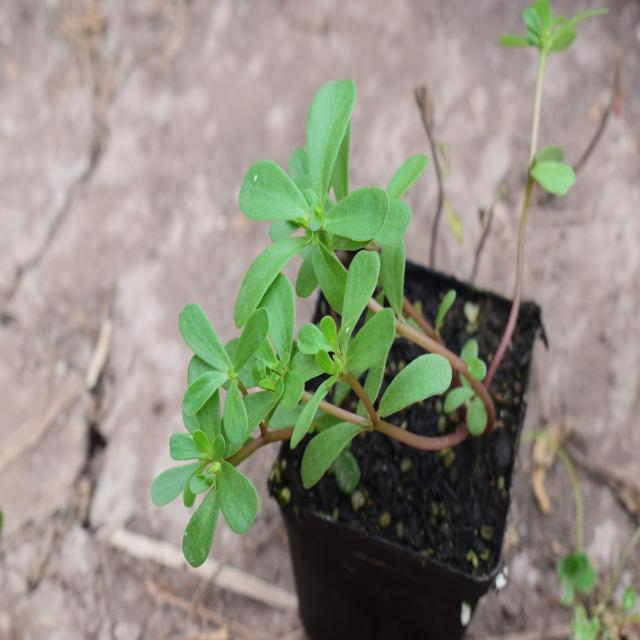purslane: (120, 98, 480, 521)
